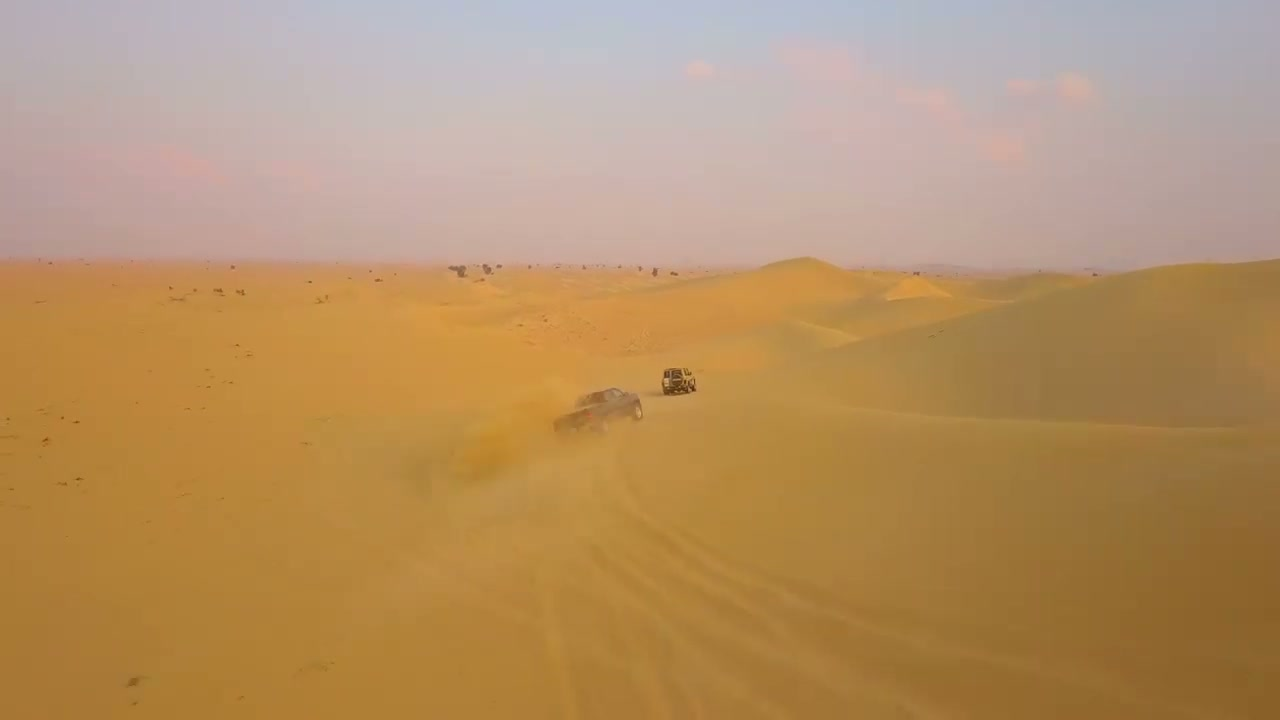vehicle_track: (596, 459, 1219, 719), (585, 458, 935, 717)
